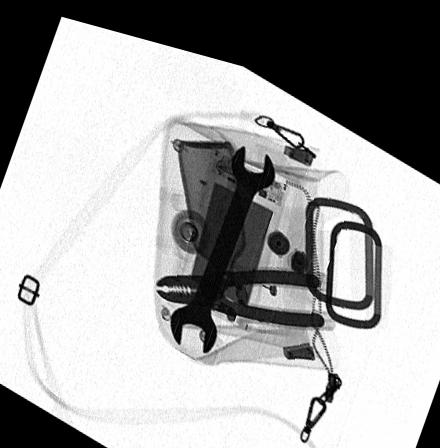Pliers: (154, 254, 325, 312)
Powerbank: (176, 140, 288, 318)
Wrench: (168, 132, 275, 344)
